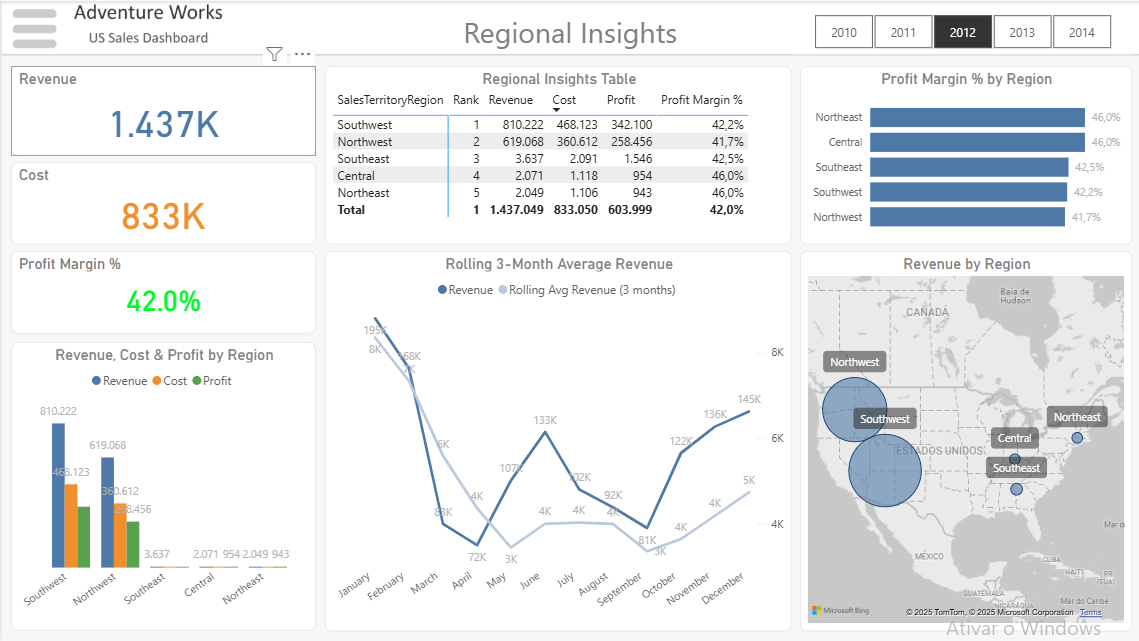

This screenshot's page, from the dashboard's own definition file:
{"tool":"powerbi","page":{"name":"Regional Insights","canvas":[1280,720],"ordinal":2},"visuals":[{"type":"card","title":"Revenue","fields":{"Values":["#Measures.01 Revenue"]},"box":[10.1,73.1,343.1,101.2],"z":0},{"type":"card","title":"Cost","fields":{"Values":["#Measures.02 Cost"]},"box":[10.1,181.1,343.1,93.4],"z":1000},{"type":"slicer","fields":{"Values":["DimDate.CalendarYear"]},"box":[888.8,9,382.5,50.6],"z":2000},{"type":"clusteredColumnChart","title":"Revenue, Cost & Profit by Region","fields":{"Y":["#Measures.Revenue","#Measures.Cost","#Measures.Profit"],"Category":["DimSalesTerritory.SalesTerritoryRegion"]},"box":[10.1,383.6,343.1,325.1],"z":3000},{"type":"actionButton","box":[0,0,72,59.6],"z":4000},{"type":"textbox","box":[477,6.8,325.1,55.1],"z":6000},{"type":"advanceCardE03760C5AB684758B56AA29F9E6C257B","title":"Profit Margin %","fields":{"mainMeasure":["#Measures.Profit Margin %"]},"box":[10,281,343.1,93],"z":7000},{"type":"clusteredBarChart","title":"Profit Margin % by Region","fields":{"Category":["DimSalesTerritory.SalesTerritoryRegion"],"Y":["#Measures.Profit Margin %"]},"box":[897.8,73.1,373.5,201.4],"z":8000},{"type":"pivotTable","title":"Regional Insights Table","fields":{"Rows":["DimSalesTerritory.SalesTerritoryRegion"],"Values":["#Measures.Rank Region by Profit","#Measures.Revenue","#Measures.Cost","#Measures.Profit","#Measures.Profit Margin %"]},"box":[363.4,73.1,525.4,201.4],"z":9000},{"type":"map","title":"Revenue by Region","fields":{"Size":["#Measures.Revenue"],"Category":["DimSalesTerritory.SalesTerritoryRegion"]},"box":[897.8,281.2,373.5,427.5],"z":10000},{"type":"lineChart","title":"Rolling 3-Month Average Revenue","fields":{"Y":["#Measures.01 Revenue"],"Category":["DimDate.EnglishMonthName"],"Y2":["#Measures.17 Revenue 3 Month Rollin Avg"]},"box":[363.4,281.2,525.4,427.5],"z":11000}]}

Visuals, with their boxes on the page's 1280x720 design canvas (x1, y1, x2, y2). These are canvas units, not pixel positions in the 1139x641 screenshot, which may show the page scaled, cropped or inside an application window:
"Revenue" card: 10, 73, 353, 174
"Cost" card: 10, 181, 353, 274
slicer - DimDate.CalendarYear: 889, 9, 1271, 60
"Revenue, Cost & Profit by Region" clusteredColumnChart: 10, 384, 353, 709
actionButton: 0, 0, 72, 60
textbox: 477, 7, 802, 62
"Profit Margin %" advanceCardE03760C5AB684758B56AA29F9E6C257B: 10, 281, 353, 374
"Profit Margin % by Region" clusteredBarChart: 898, 73, 1271, 274
"Regional Insights Table" pivotTable: 363, 73, 889, 274
"Revenue by Region" map: 898, 281, 1271, 709
"Rolling 3-Month Average Revenue" lineChart: 363, 281, 889, 709
